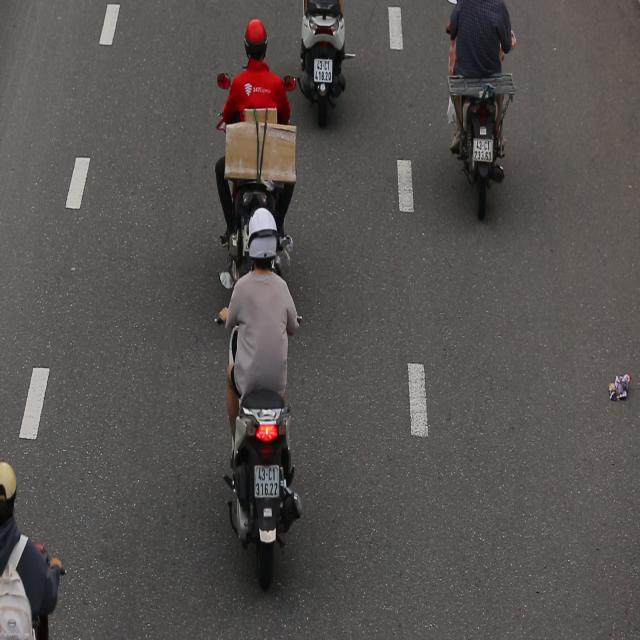motorbike: (213, 203, 318, 585)
